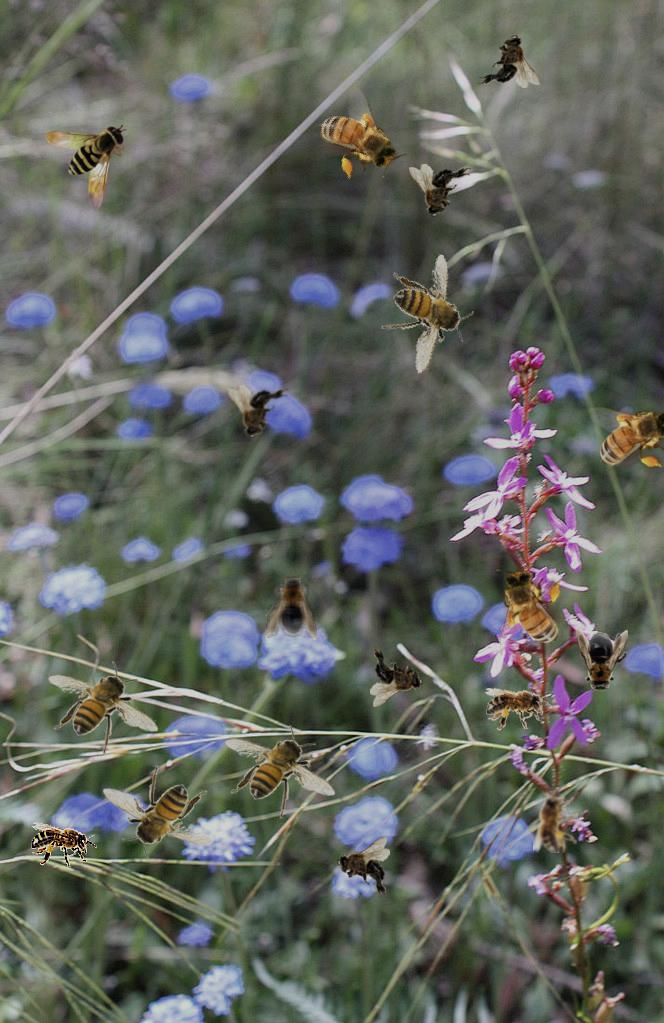Bee: (366, 249, 487, 381), (303, 80, 413, 197), (225, 725, 336, 819), (102, 765, 213, 859), (48, 661, 159, 755), (45, 124, 127, 212), (496, 563, 564, 656), (587, 403, 664, 471), (483, 681, 555, 734), (576, 628, 628, 696), (265, 572, 317, 640), (478, 35, 540, 88), (337, 837, 390, 899), (409, 164, 471, 217), (227, 385, 289, 438), (370, 645, 423, 707), (533, 787, 578, 853), (31, 822, 97, 867)
